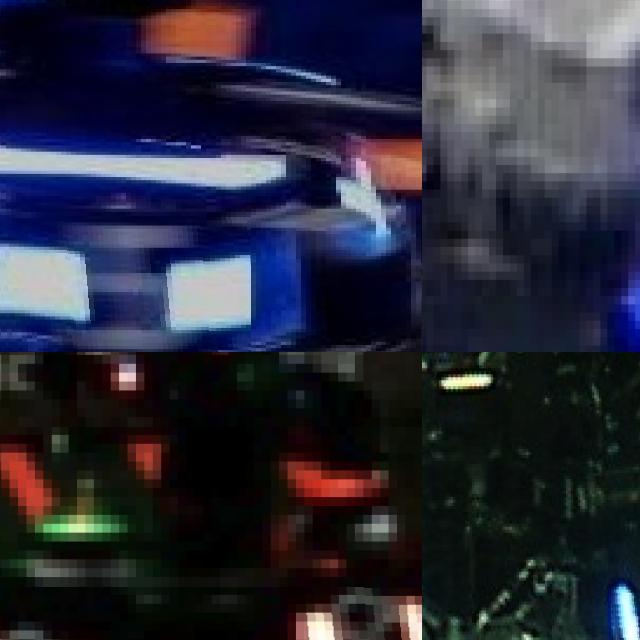B5: (0, 211, 251, 352)
Rs: (296, 586, 422, 640)
